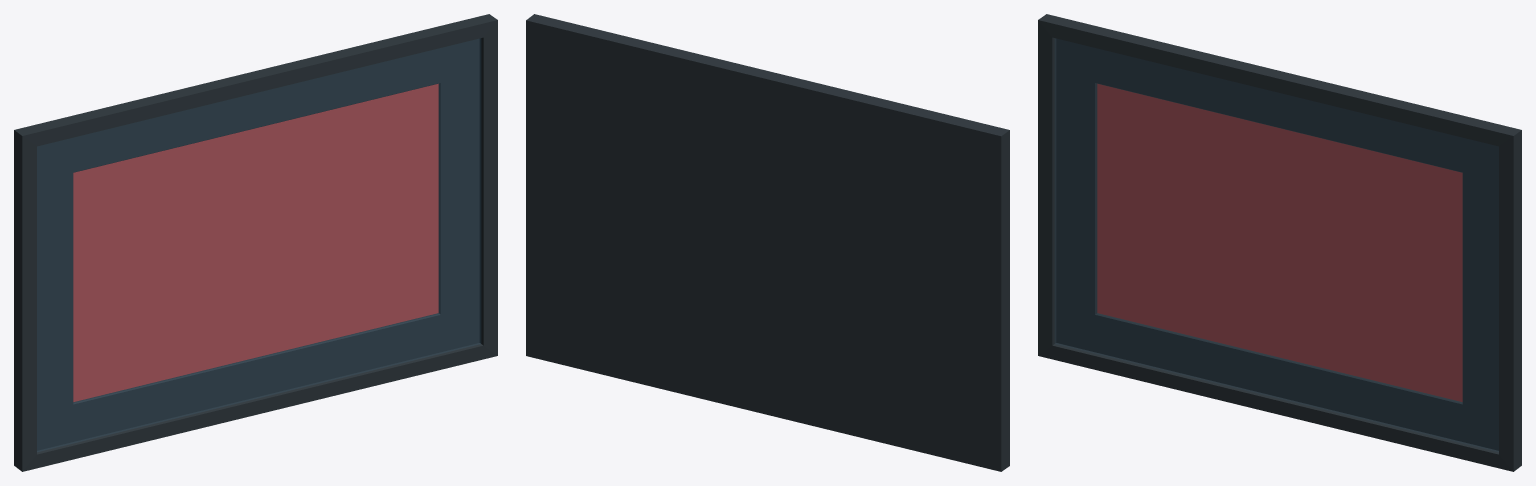
Rendered from Picture Frame small.fbx.
3 views of the same model, side by side, from view 1: azimuth 30°, elevation 25°; view 2: azimuth 150°, elevation 25°; view 3: azimuth 330°, elevation 25° (orthographic).
Parts seen in each view (by area): view 1: Glass, Image, Frame; view 2: Frame; view 3: Glass, Image, Frame.
Boxes of the visible parts, <box> form: Glass: <box>37,39,480,451</box>; Image: <box>73,83,438,401</box>; Frame: <box>14,14,497,471</box>; Frame: <box>526,14,1009,471</box>; Glass: <box>1055,39,1498,451</box>; Image: <box>1097,83,1462,401</box>; Frame: <box>1038,14,1521,471</box>.
Bounding box in the file's own units: 800 × 540 × 25.
